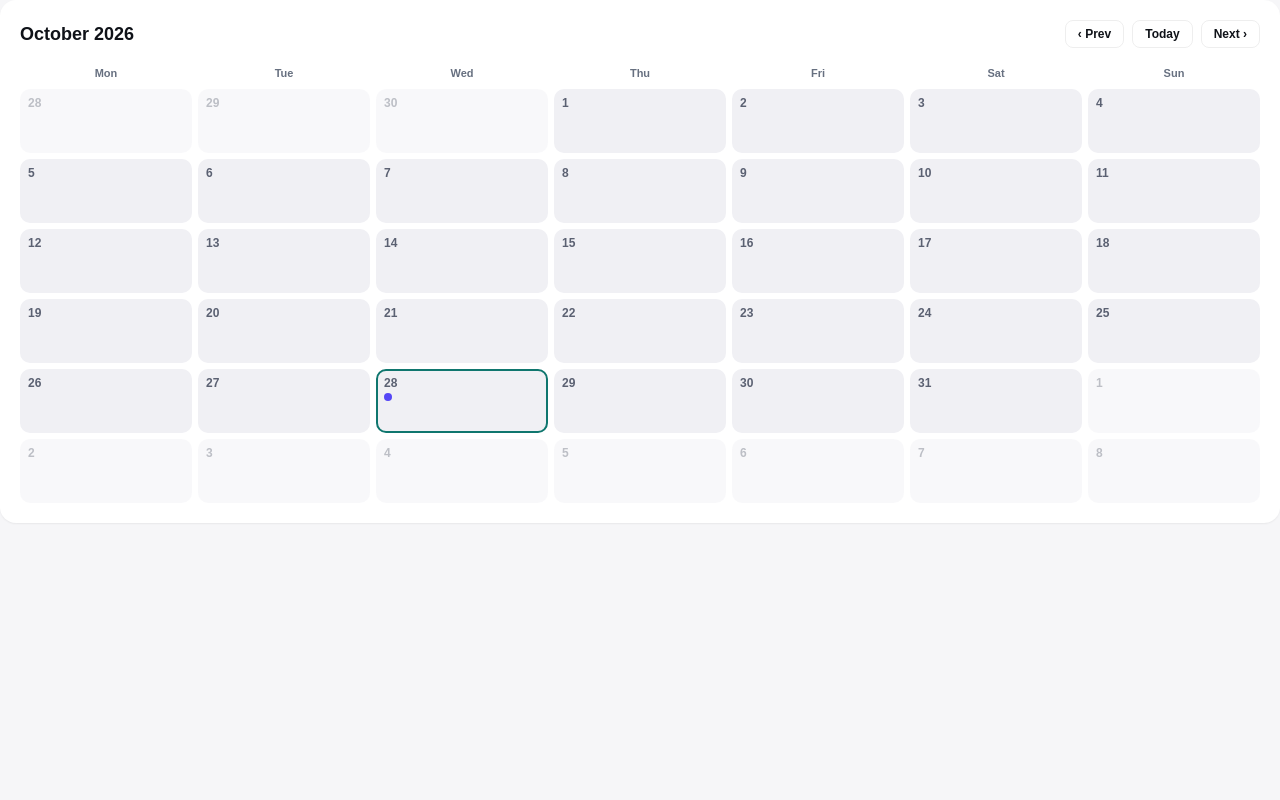
SubscriptionsCalendar › warns that an upcoming automatic occurrence won't post to a closed account
Click the cell named "1 scheduled item". click: (462, 401)
box: 376,369 -> 548,433
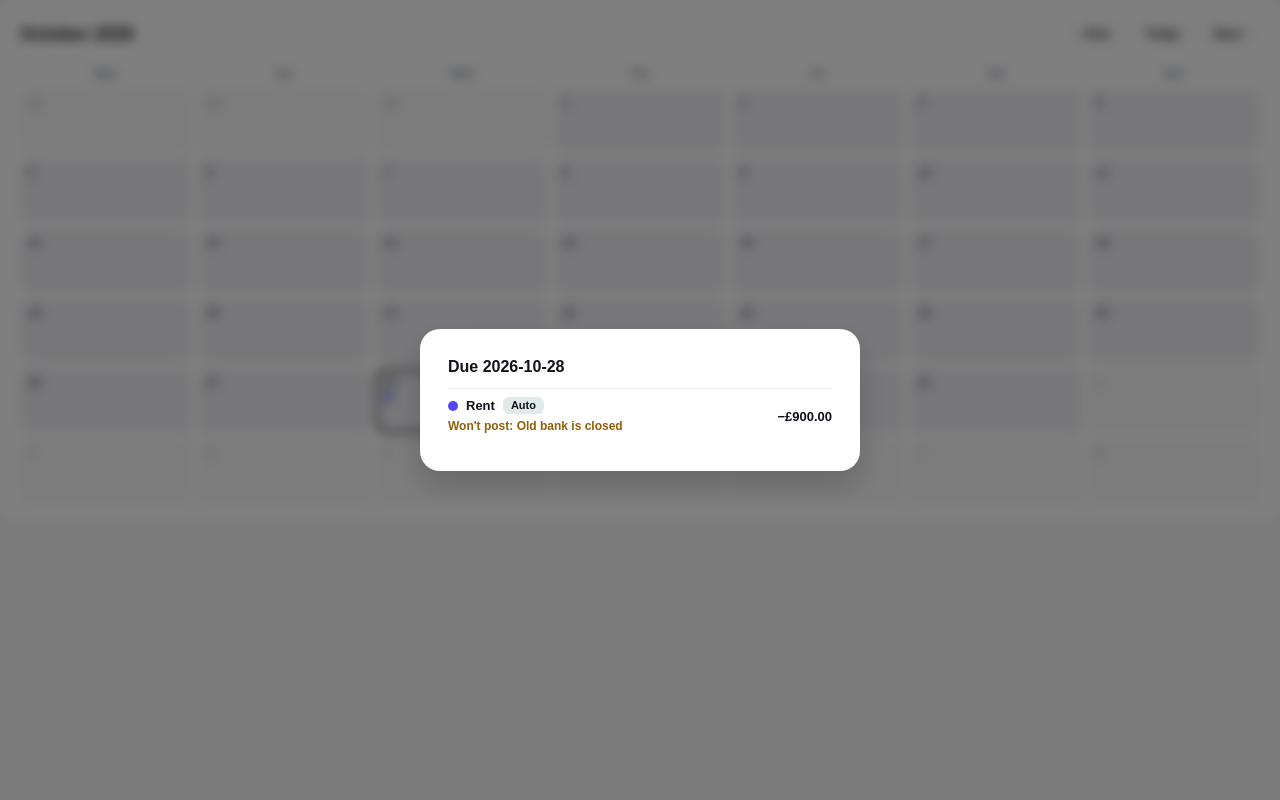
Expected: the text "Won't post: Old bank is closed" is shown, 448,419 -> 623,435
